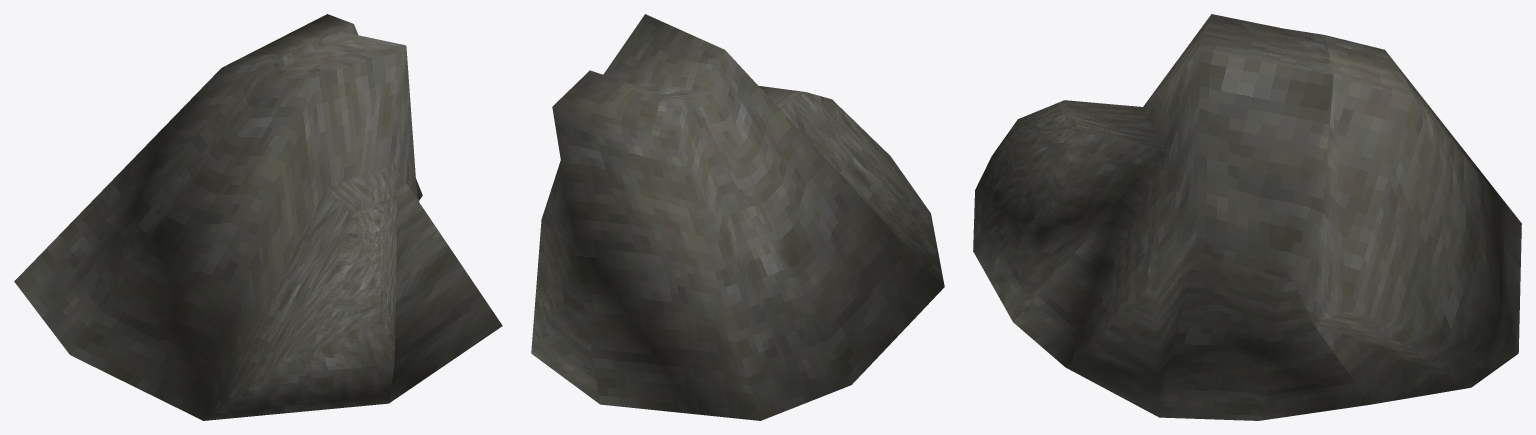
File: rock_2.glb
The picture shows the model from 3 angles, left to right: view 1: azimuth 30°, elevation 25°; view 2: azimuth 150°, elevation 25°; view 3: azimuth 270°, elevation 25°; orthographic projection. The views are drawn at different scales.
Visible parts, largest first — view 1: rock2; view 2: rock2; view 3: rock2.
Boxes of the visible parts, x1,y1,x2,y2 form: rock2: (14, 14, 502, 420); rock2: (531, 14, 944, 420); rock2: (973, 14, 1521, 420).
Size of the model in its own units: 2.41 by 2 by 2.82.
1 material, 1 textured.
